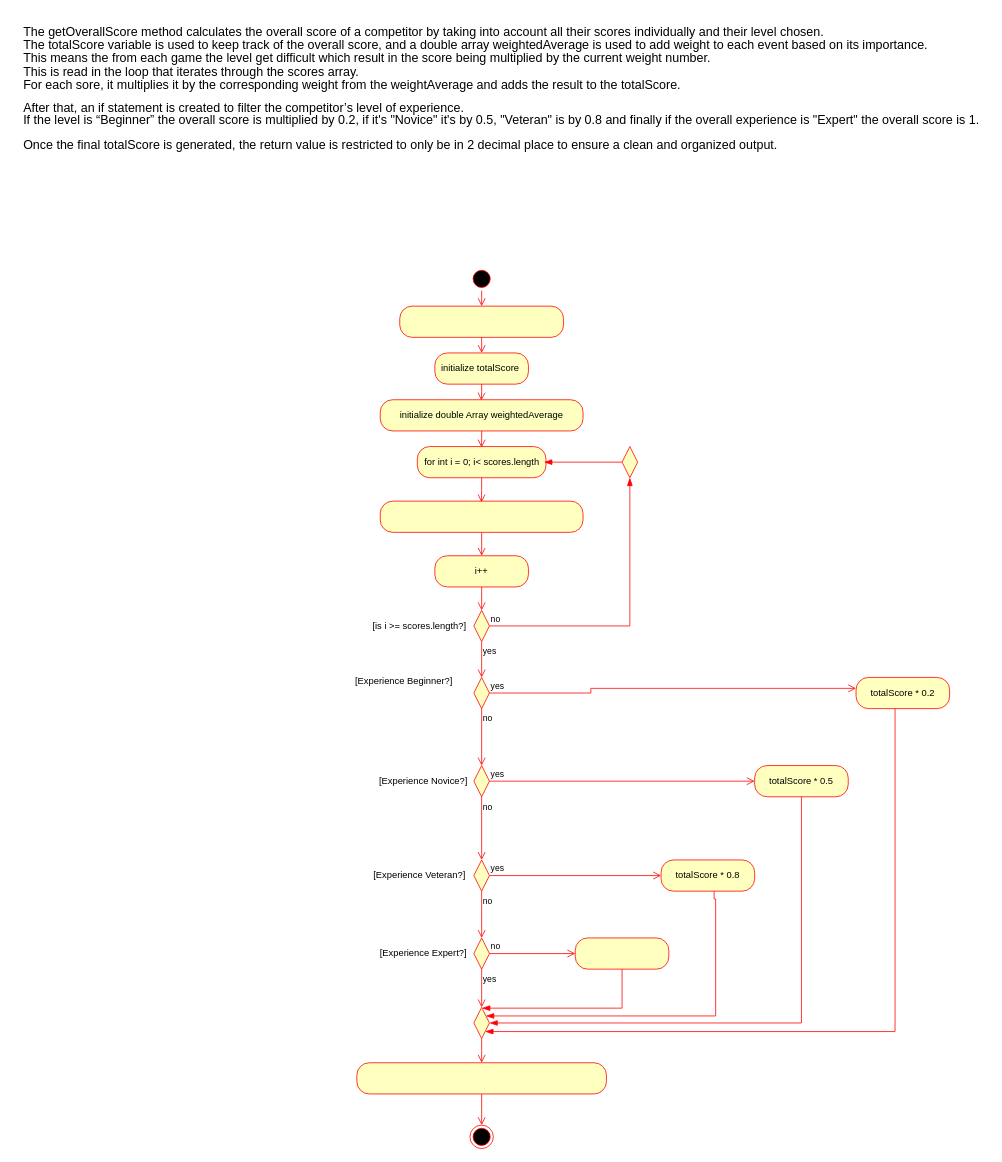
Image size: 1002x1162. Some labels were removed from this diagram. Here are the shapes that lost their labels. From the top down, the centre of each, then its label:
At [481,321]: "Receive competitor's score".
At [481,516]: "totalScore += scores[i] * weightedAverage[i]".
At [621,953]: "totalScore * 1".
At [481,1078]: "return totalScore with a restriction of 2 decimal place.".
